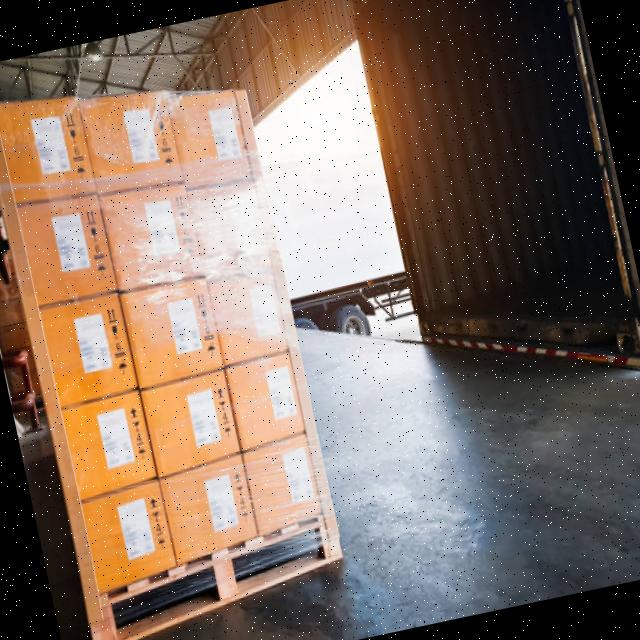Wooden-Pallets: (89, 509, 348, 640)
